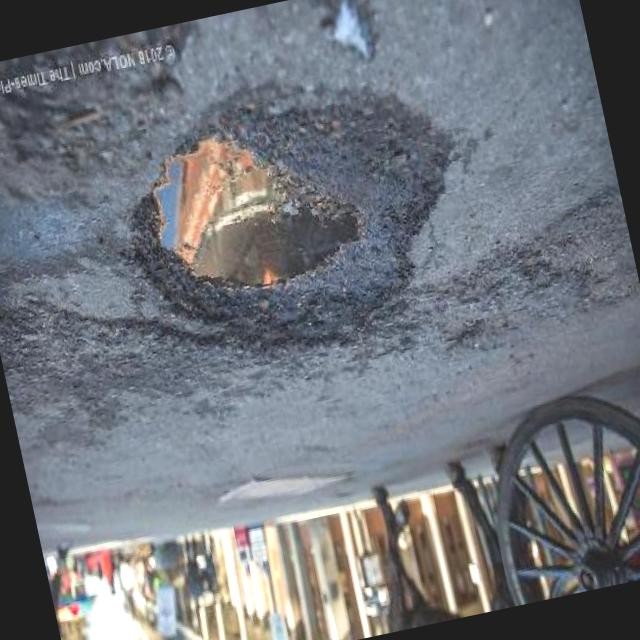pothole: (100, 49, 498, 393)
